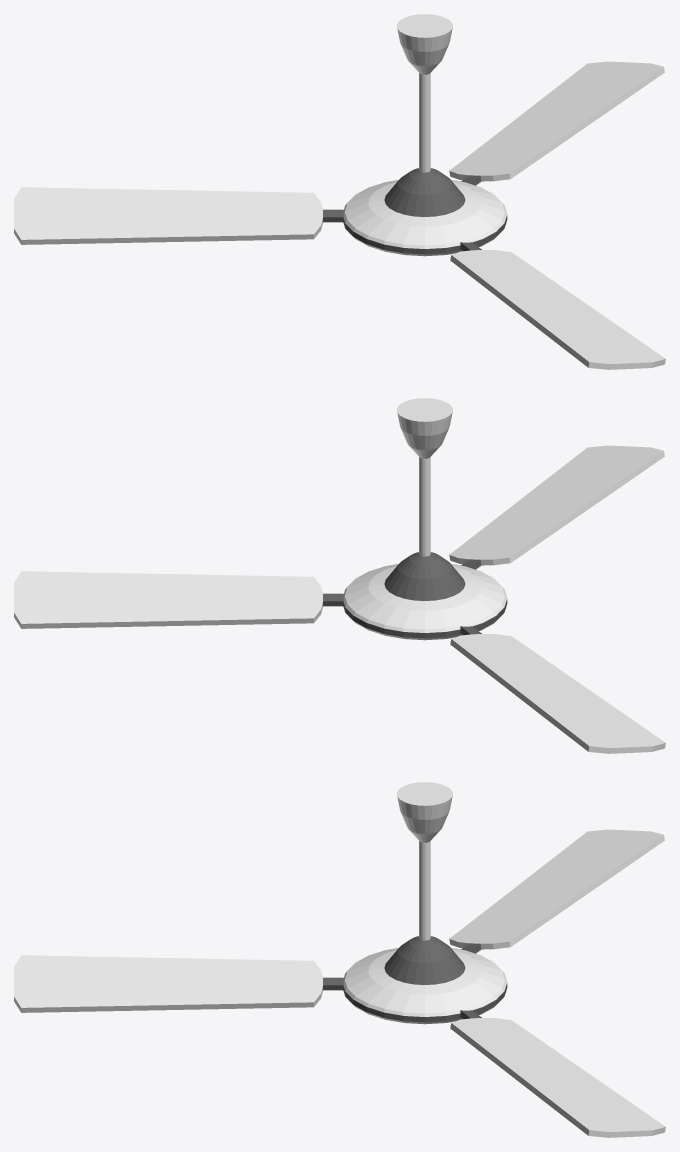
File: 540 Ceiling Fan.gltf
3 renders of one model, top to bottom at view 1: azimuth 30°, elevation 25°; view 2: azimuth 150°, elevation 25°; view 3: azimuth 270°, elevation 25°, orthographic.
Visible parts, largest first — view 1: node-0; view 2: node-0; view 3: node-0.
Boxes of the visible parts, box(x1,y1,x2,y2) form: node-0: box(14, 14, 665, 369); node-0: box(14, 398, 665, 753); node-0: box(14, 782, 665, 1137).
Size of the model in its own units: 656 by 207 by 575.
1 material, 1 textured.
